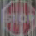Stop: (2, 6, 35, 32)
